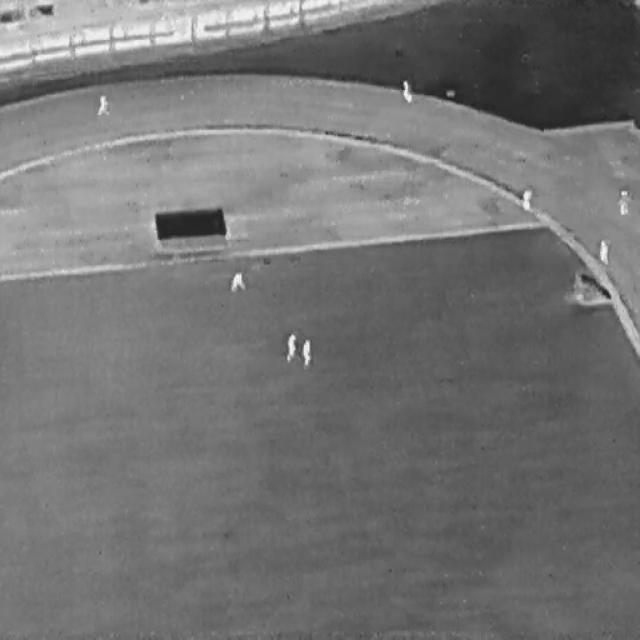Person: (230, 270, 245, 291), (96, 94, 109, 115), (286, 332, 295, 362), (618, 189, 628, 215), (302, 339, 311, 366), (599, 238, 608, 264), (402, 78, 411, 102), (521, 188, 531, 208)
